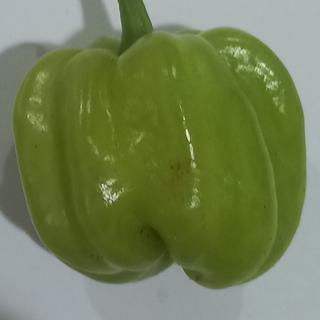Grade-B: (11, 23, 313, 298)
